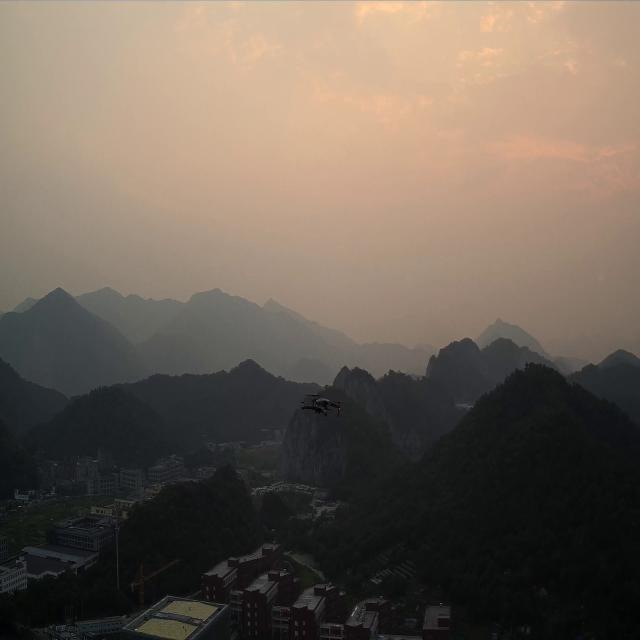UAV: (298, 392, 342, 418)
